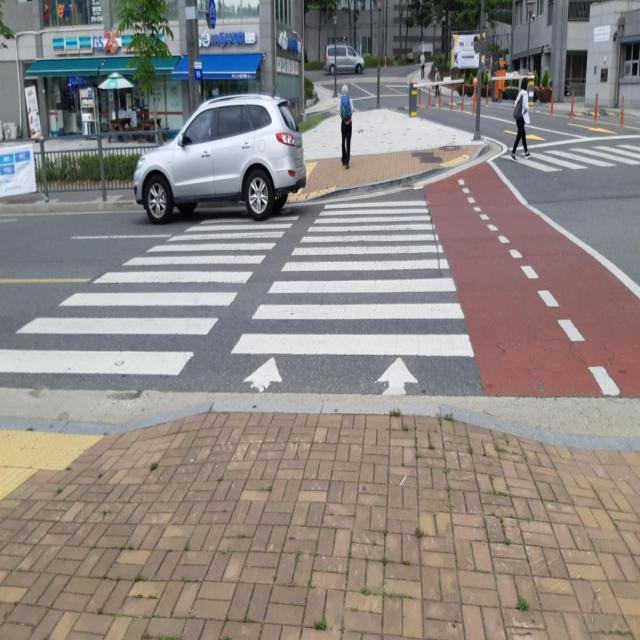횡단보도: (0, 198, 475, 399), (510, 141, 640, 171)
